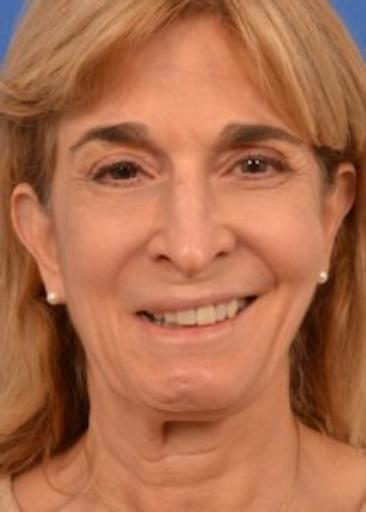left_eye: (225, 156, 285, 177)
left_lip_corner: (246, 290, 272, 304)
right_eye: (85, 159, 156, 184)
right_lip_corner: (125, 305, 151, 322)
